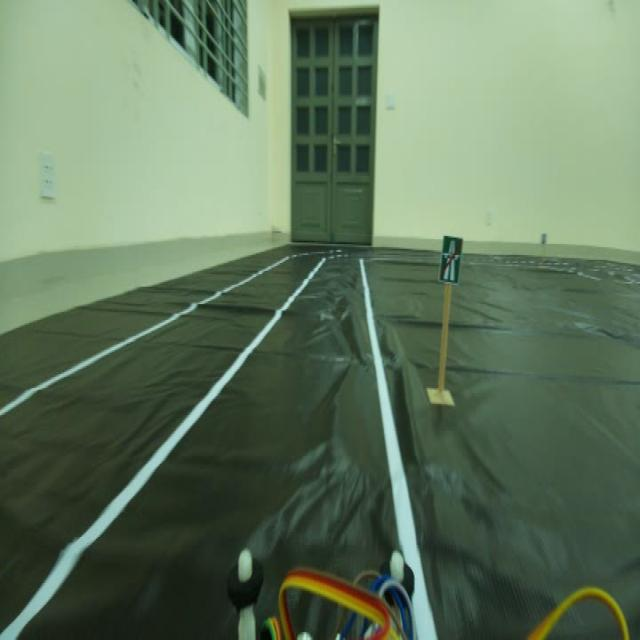highway_exit: (434, 226, 468, 284)
